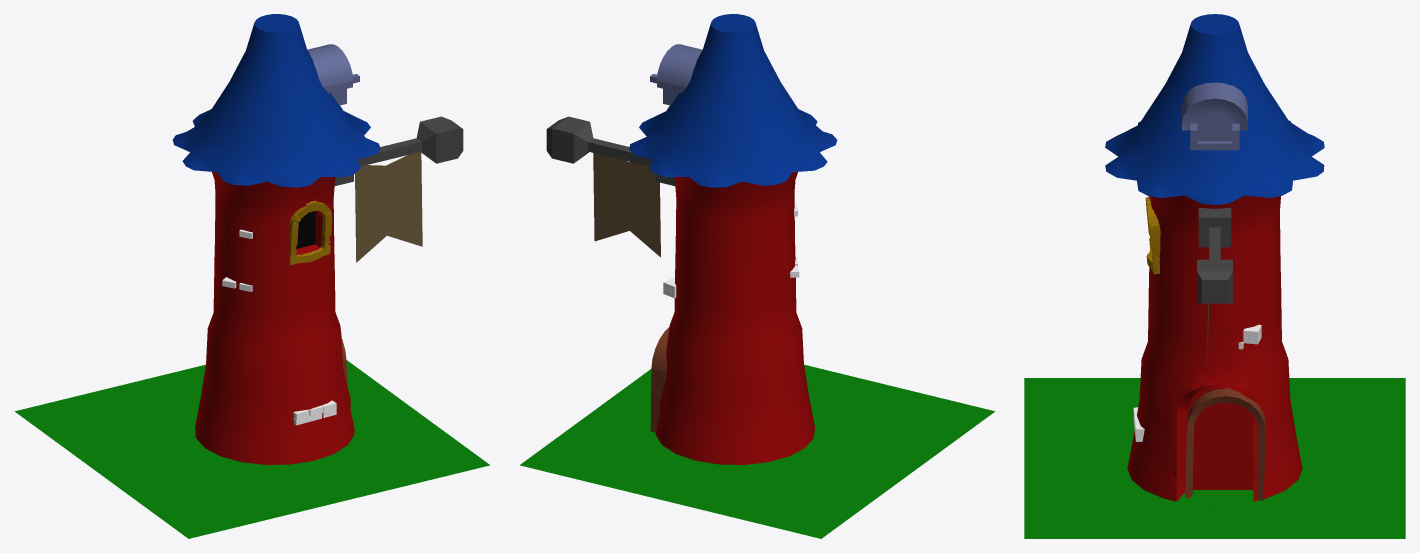
Rendered from Medieval tower.fbx.
3 renders of one model, left to right at view 1: azimuth 30°, elevation 25°; view 2: azimuth 150°, elevation 25°; view 3: azimuth 270°, elevation 25°, orthographic. The views are drawn at different scales.
Visible parts, largest first — view 1: pCube78; view 2: pCube78; view 3: pCube78.
Part boxes in pixels (x1,y1,x2,y2): pCube78: [15, 14, 489, 538]; pCube78: [520, 14, 994, 538]; pCube78: [1024, 14, 1405, 538].
Size of the model in its own units: 4442 by 4877 by 3767.
